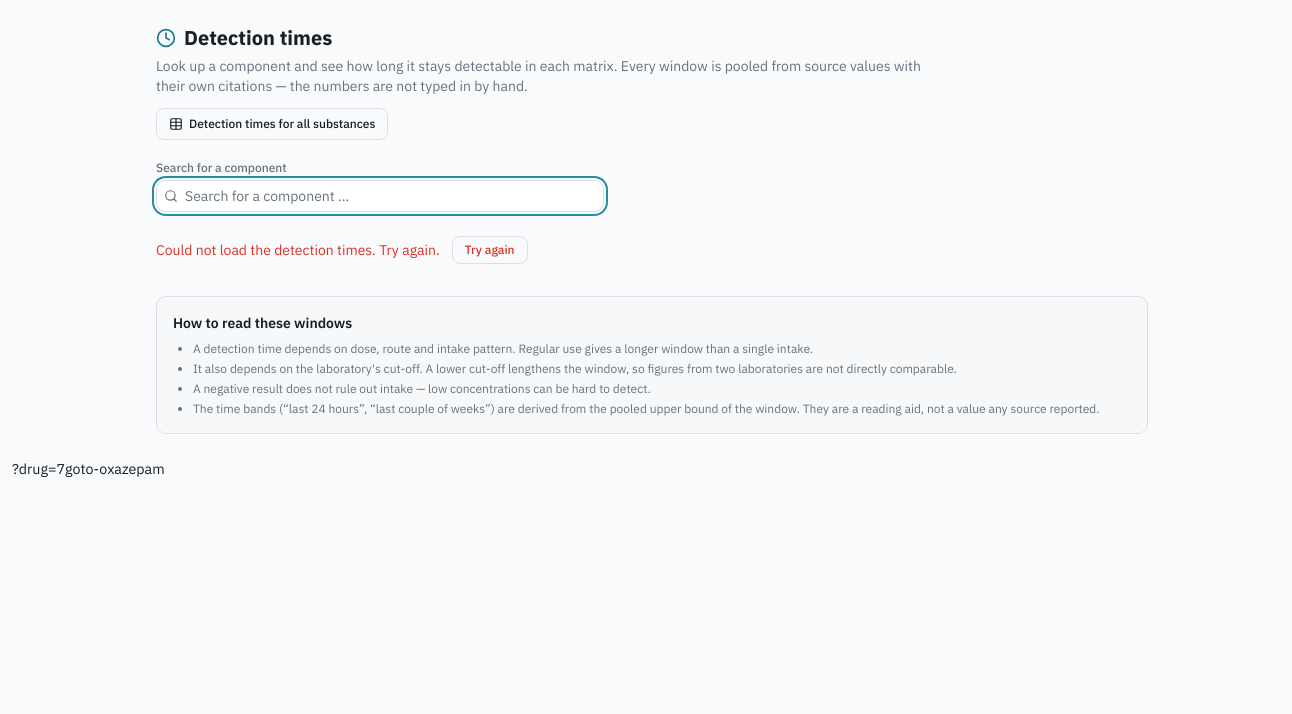
DetectionTimesPage › offers a way to actually try again after a failed lookup
The width and height of the screenshot is (1292, 714).
Expected: the message "Could not load the detection times. Try again. Try again" is shown, [156,236,528,264]
Click the button "Try again" at [490, 250], box [452,236,528,264]
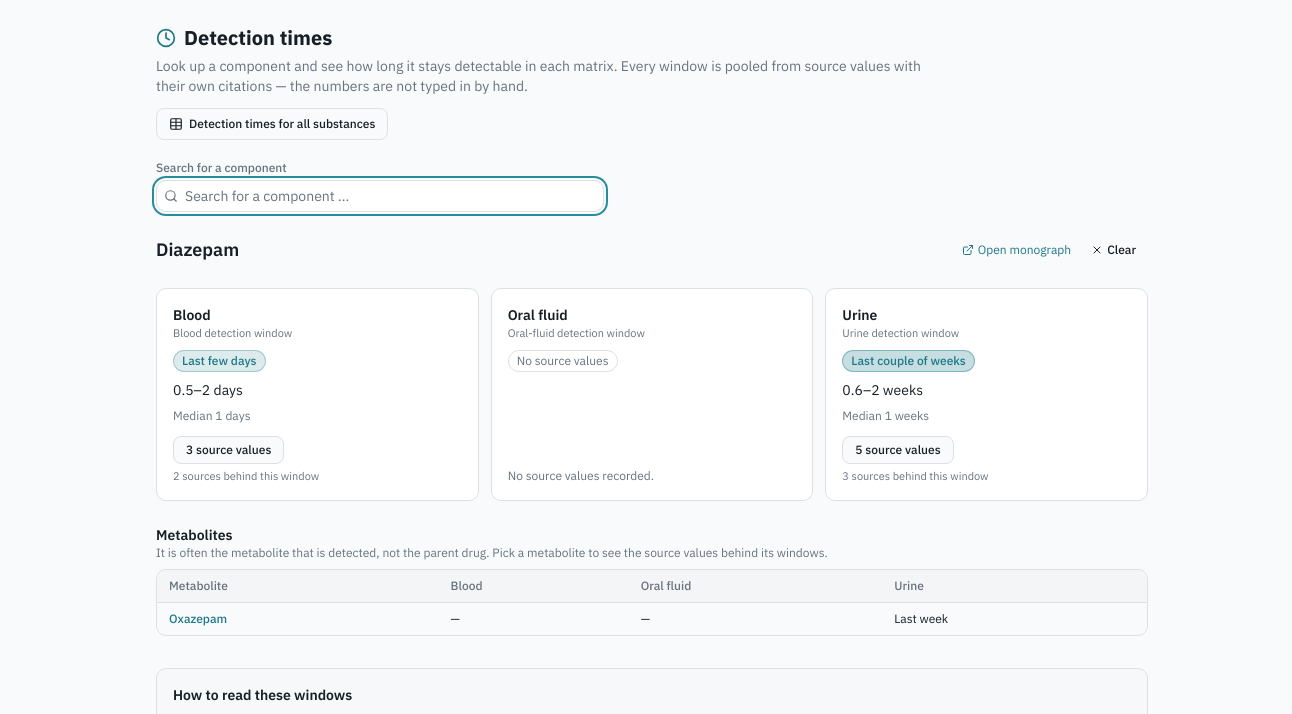
Now the heading "Diazepam" is shown, box [156,236,239,264]
Now the message "Could not load the detection times. Try again. Try again" is gone
